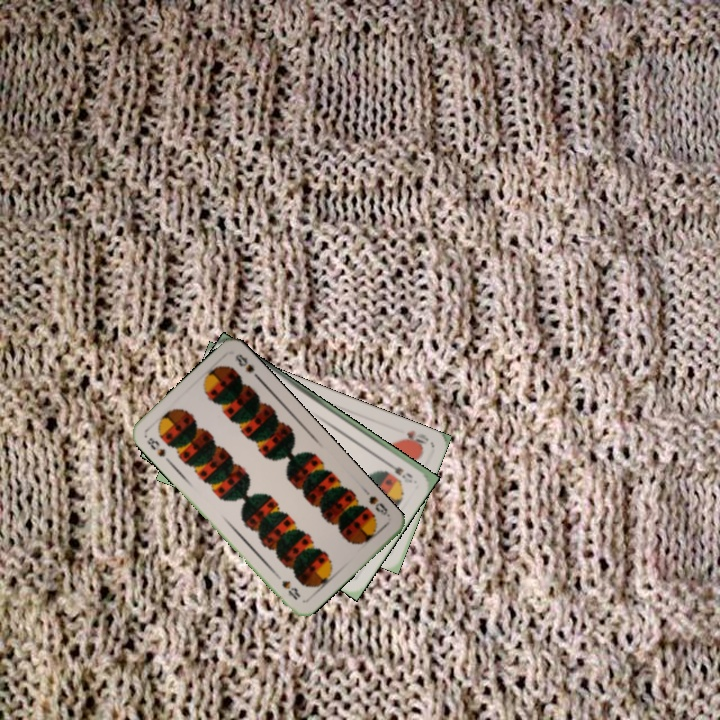HO: (397, 426, 431, 449)
S8: (365, 492, 393, 520), (142, 433, 168, 460)
SO: (381, 457, 415, 486)
